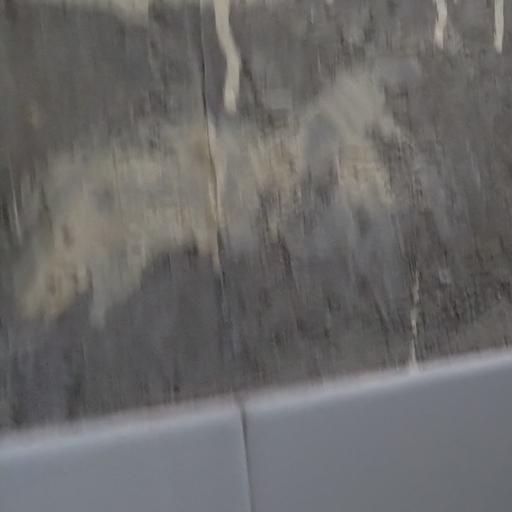spalling: (13, 0, 512, 458)
